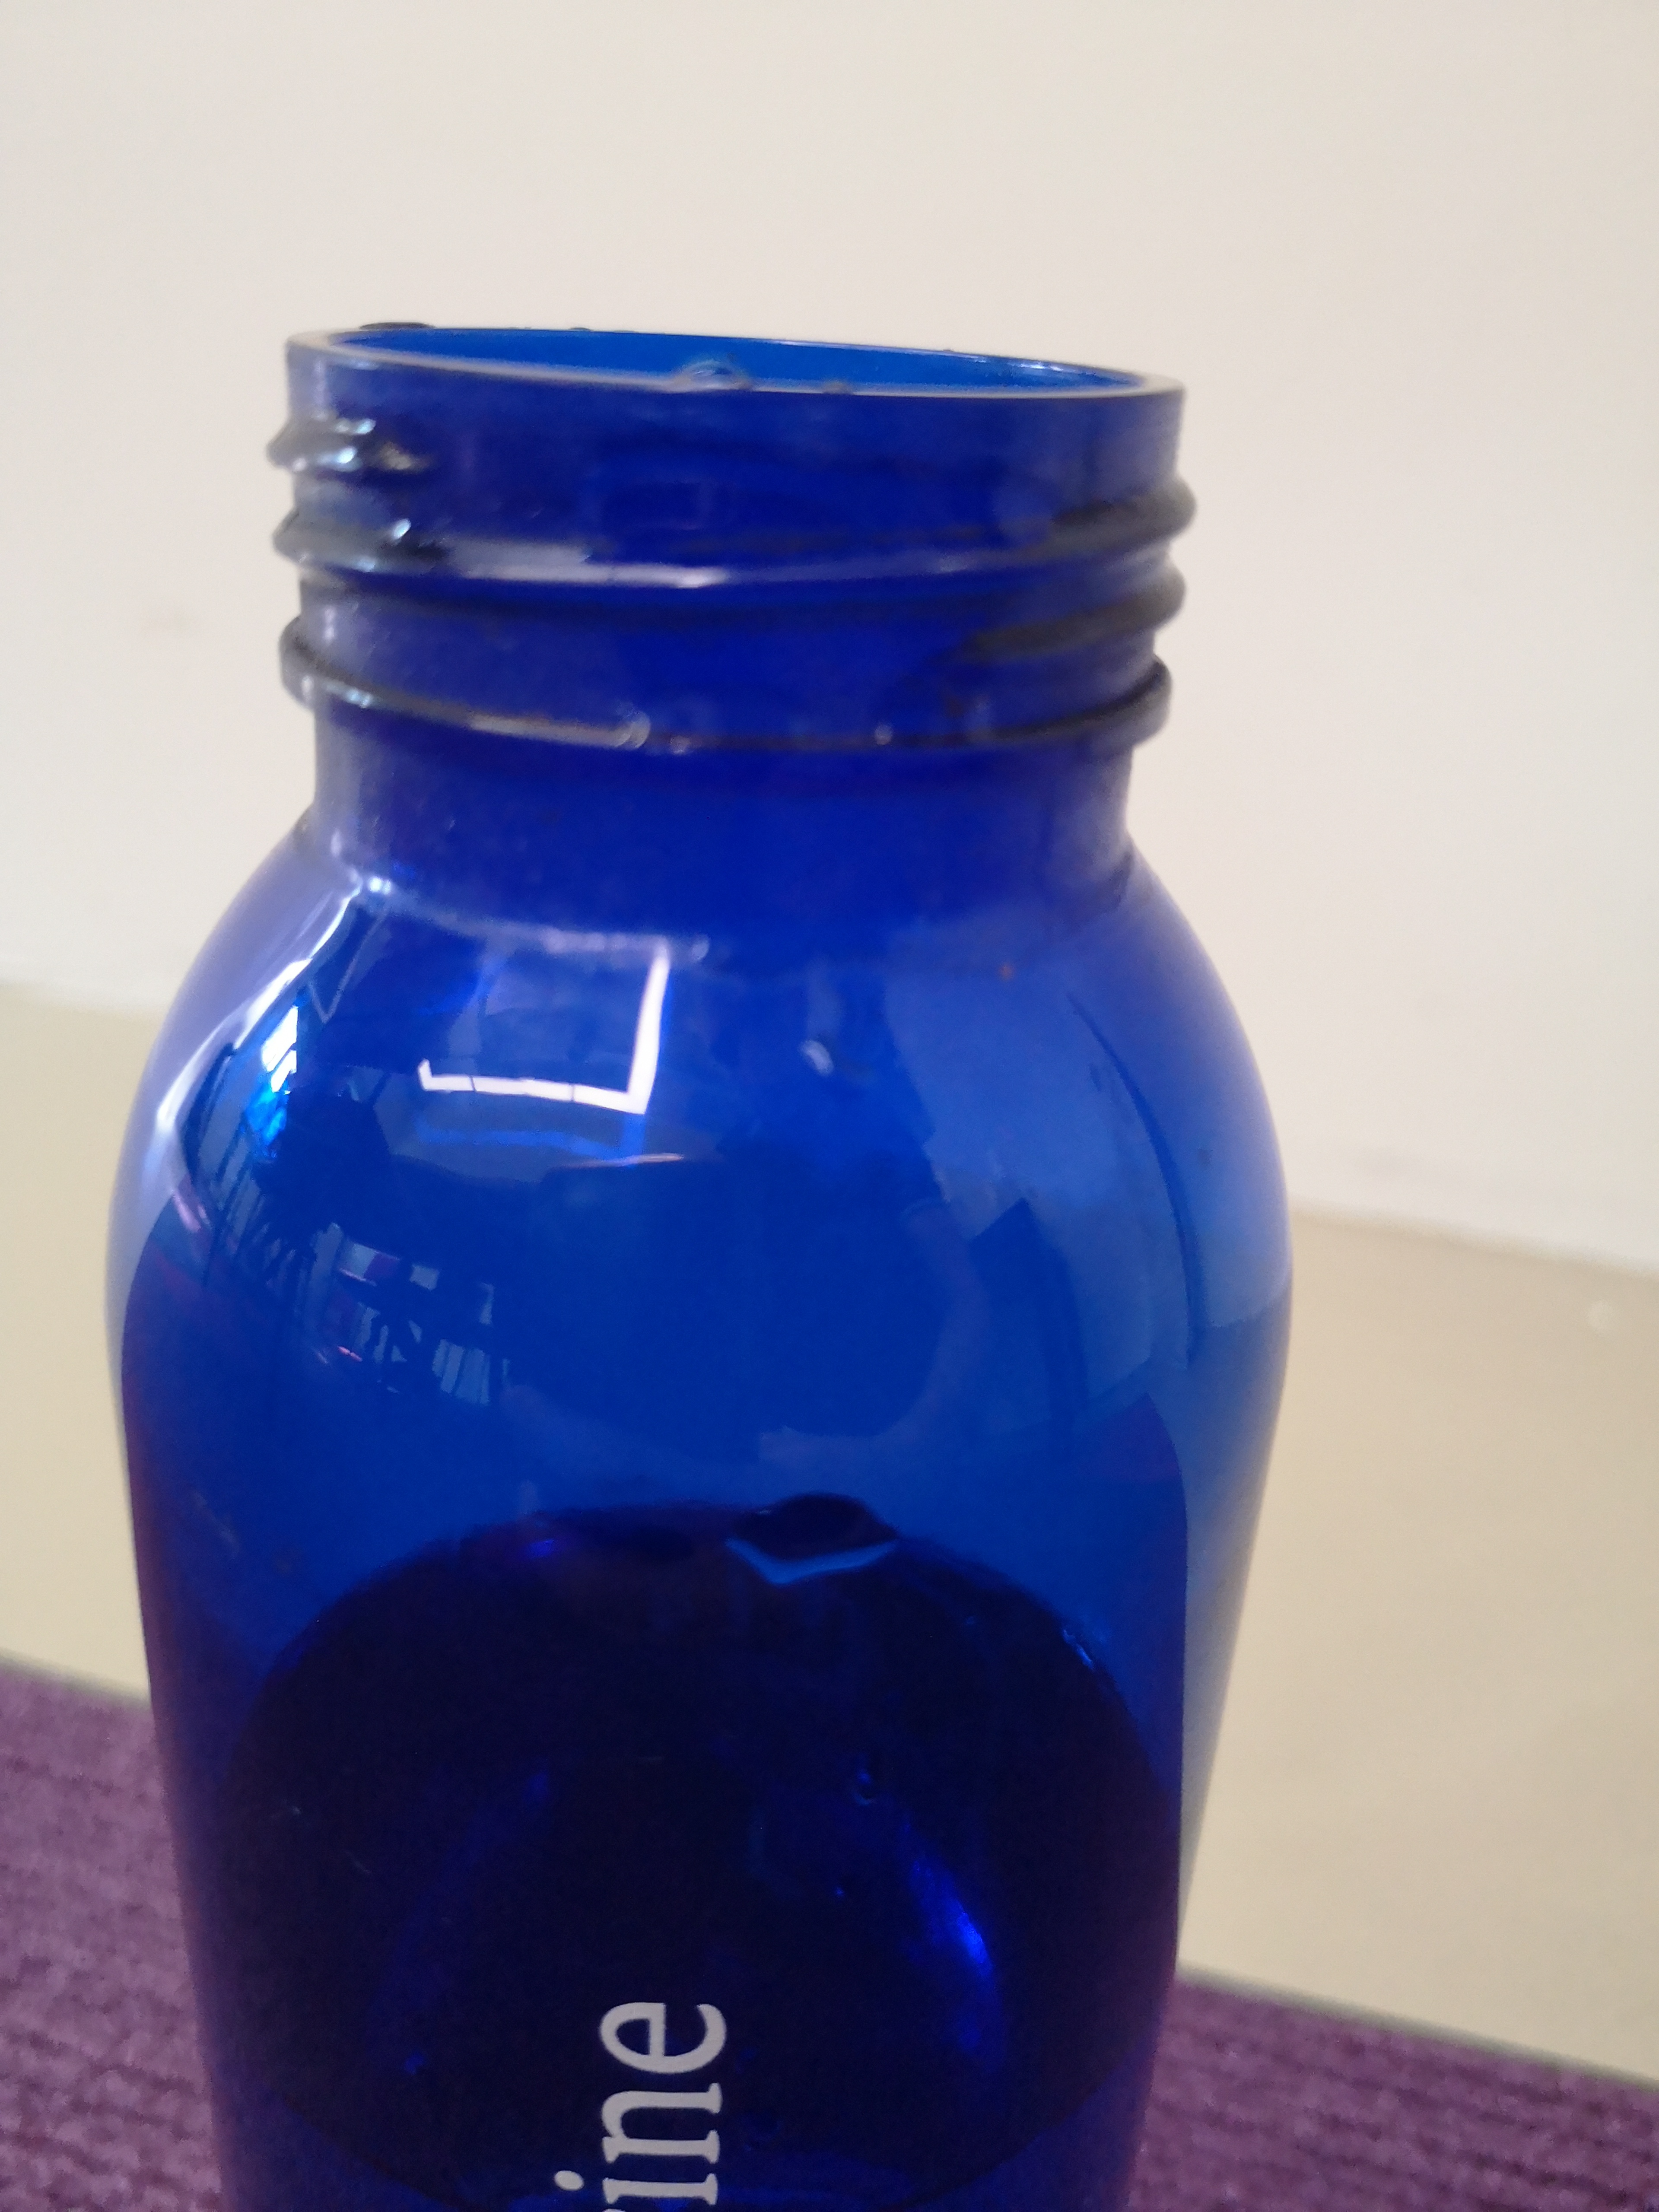plastic_bottle: (37, 249, 1354, 2212)
